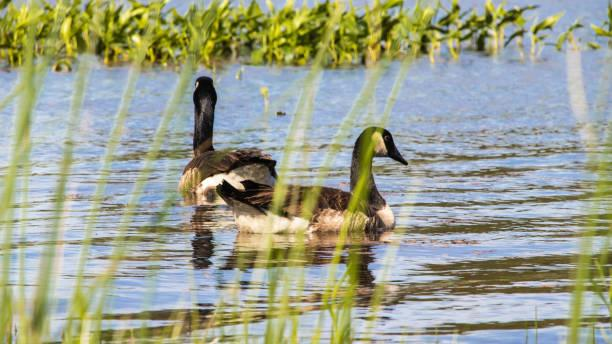Canadian-Goose: (227, 128, 410, 236), (183, 75, 278, 196)
